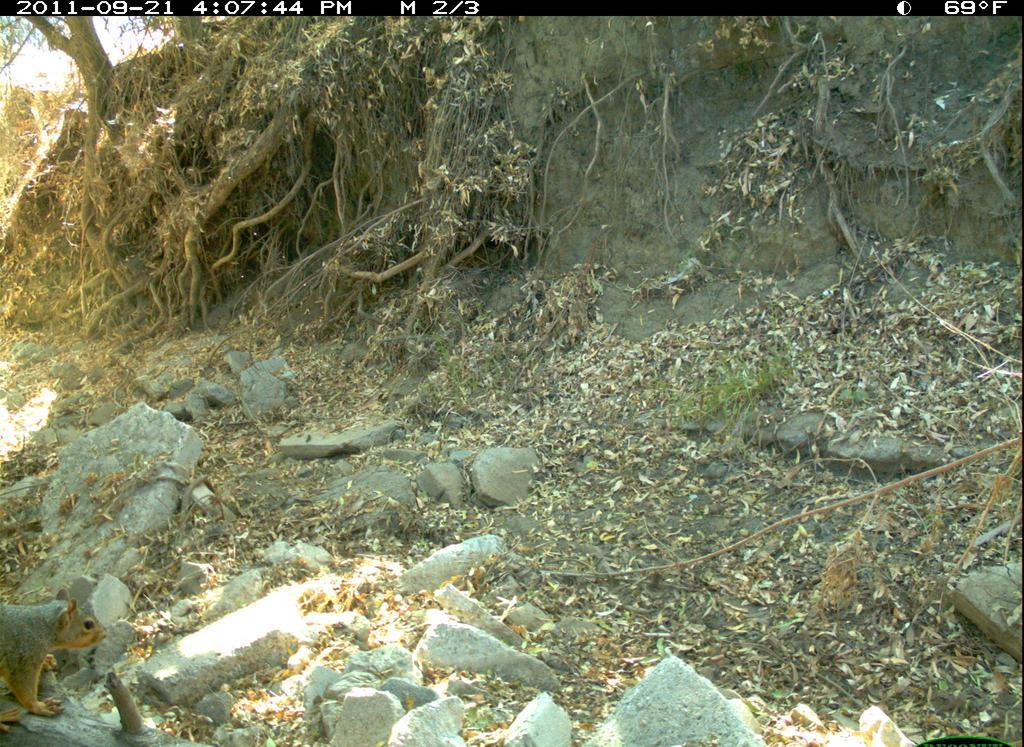squirrel: (1, 598, 109, 730)
